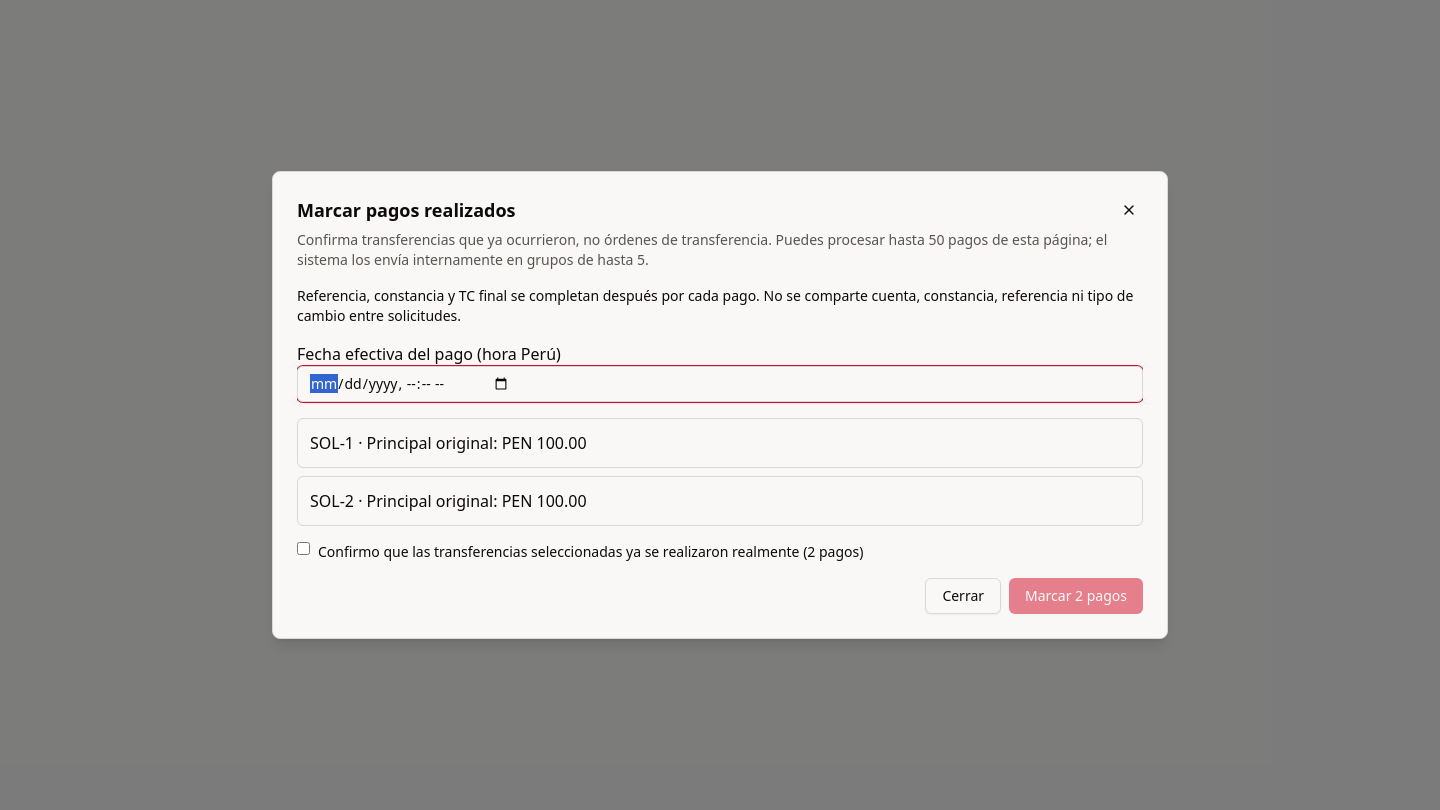
it: bulk payment modals › conserva resultados y no reintenta conflictos de asignación ciegamente
Type "2026-09-10T10:30" into the field labelled "Fecha efectiva del pago (hora Perú)". click: (720,384)
box: [297, 366, 1143, 402]
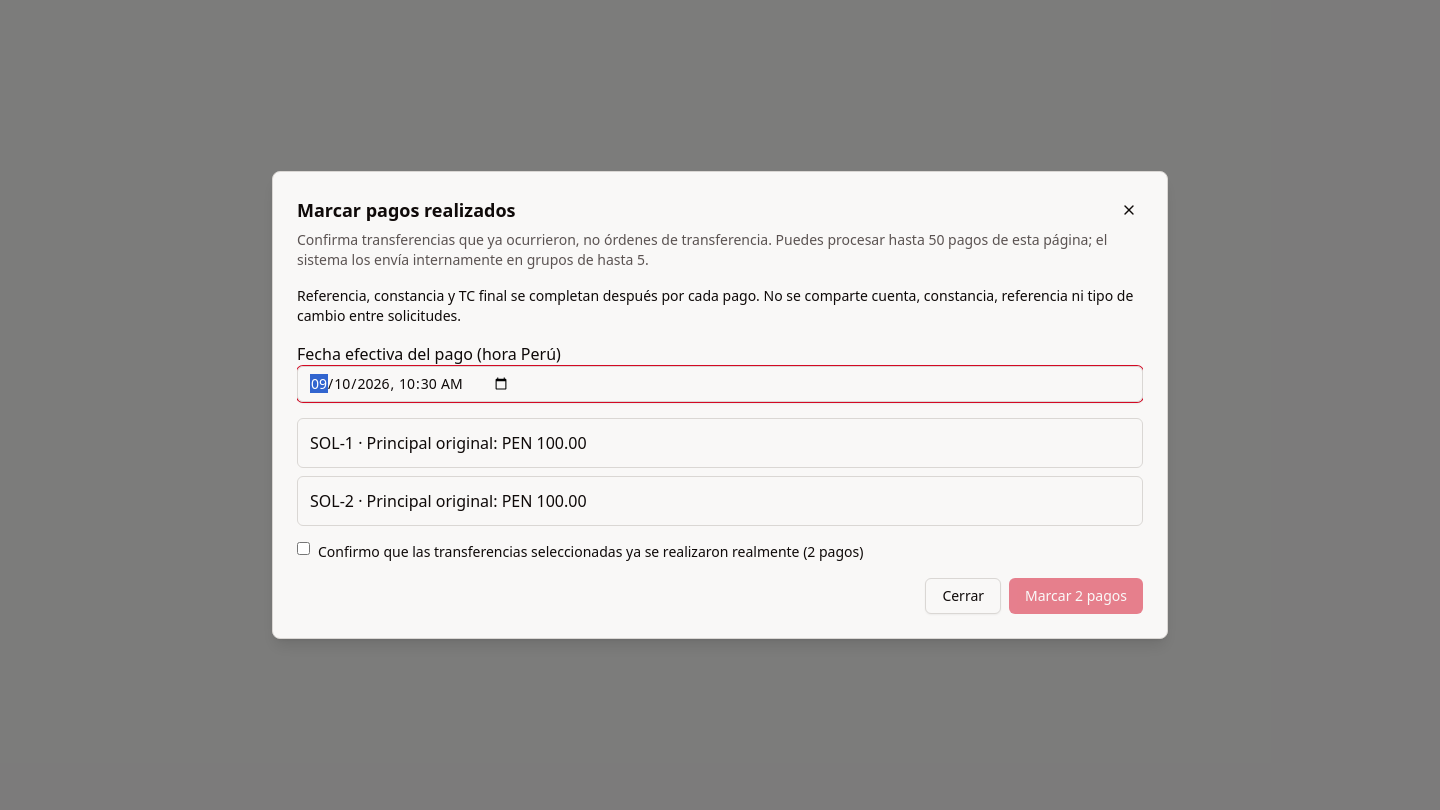
Click the checkbox labelled "Confirmo que las transferencias". click: (304,548)
box: [297, 542, 310, 555]
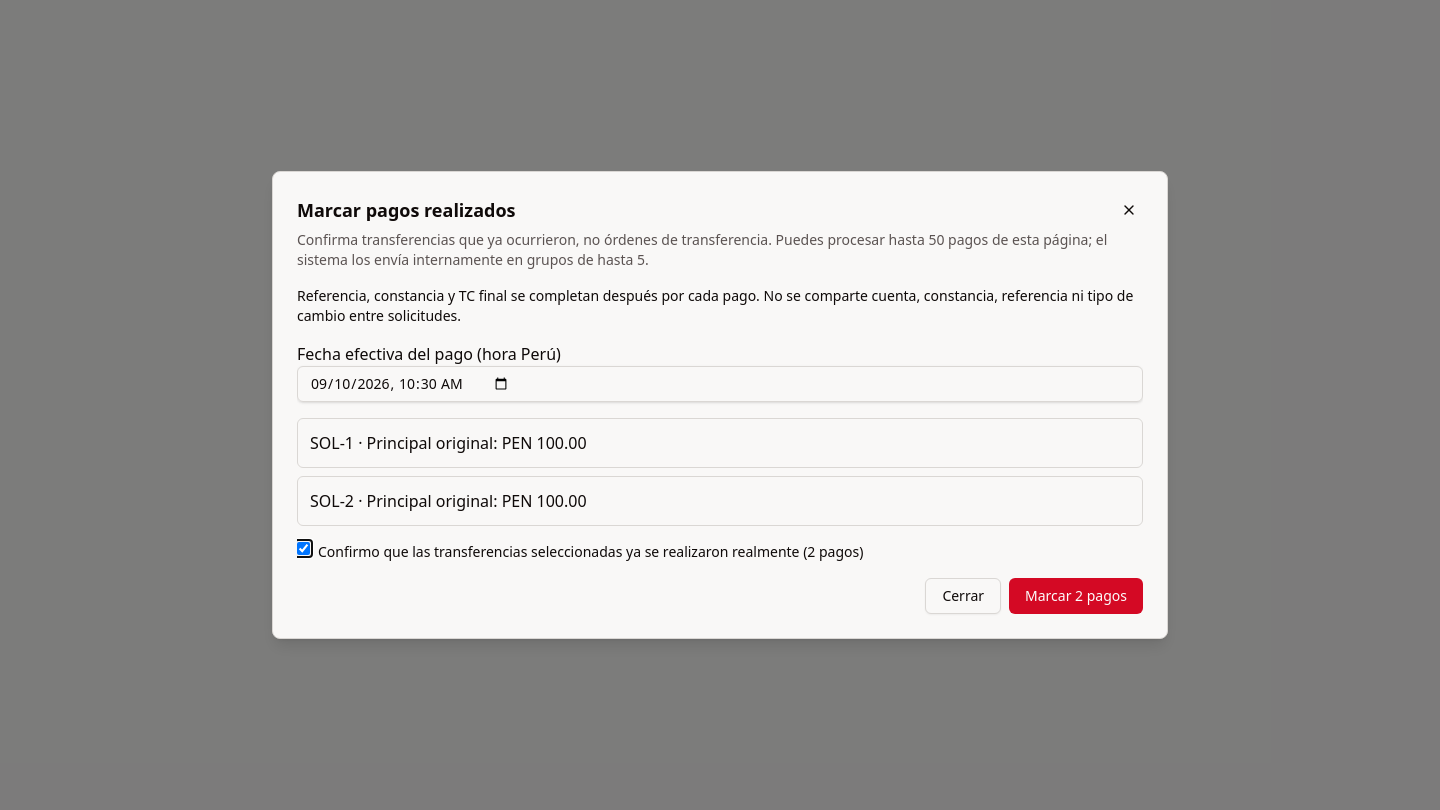
Click the button "Marcar 2 pagos". click: (1076,596)
box: [1009, 578, 1143, 614]
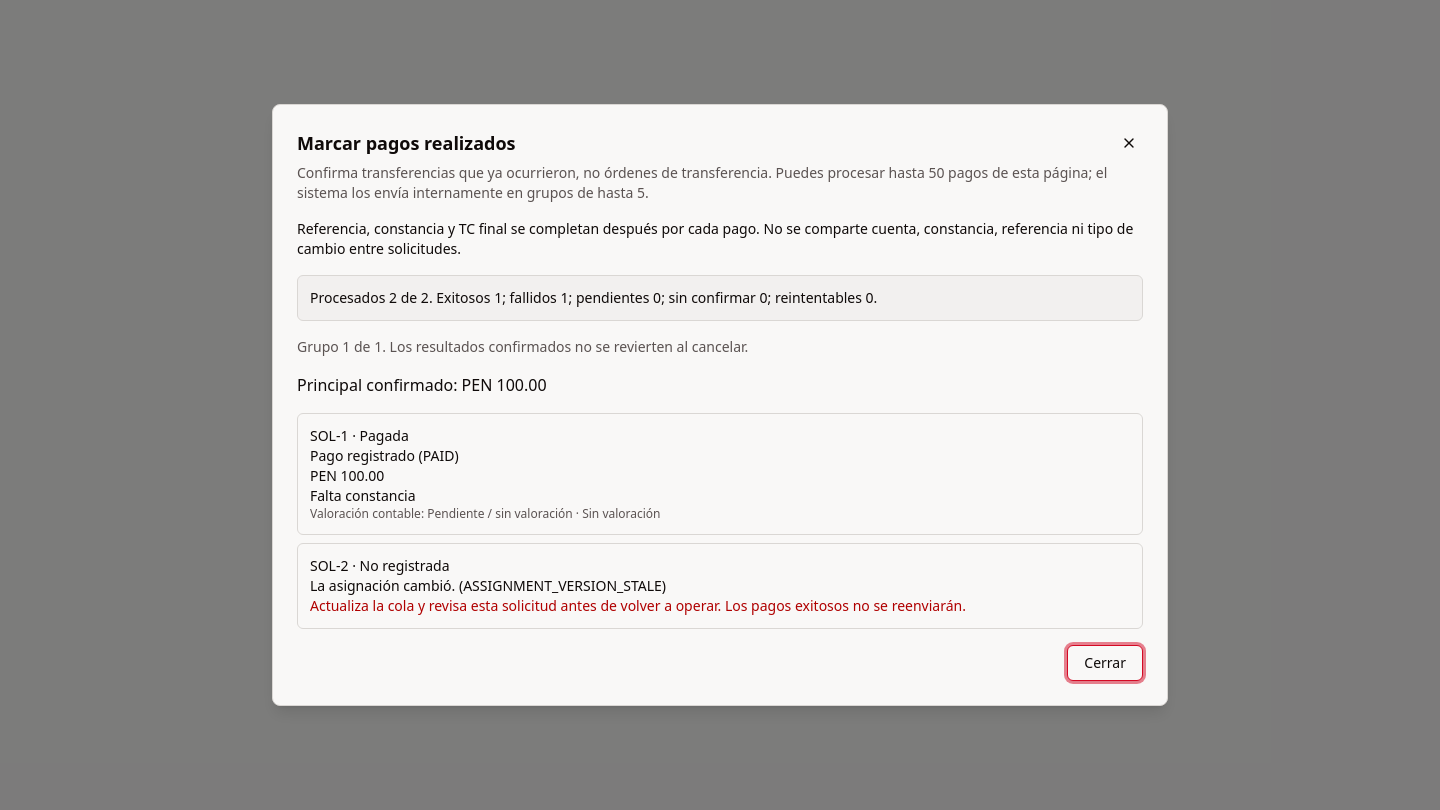
expect the text "La asignación cambió. (ASSIGNMENT_VERSION_STALE)" is shown: met, box [310, 576, 666, 595]
